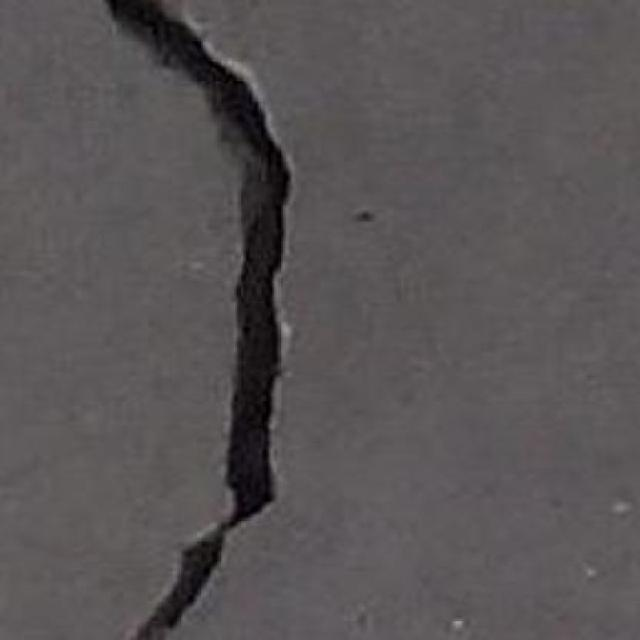Crack: (89, 2, 313, 640)
